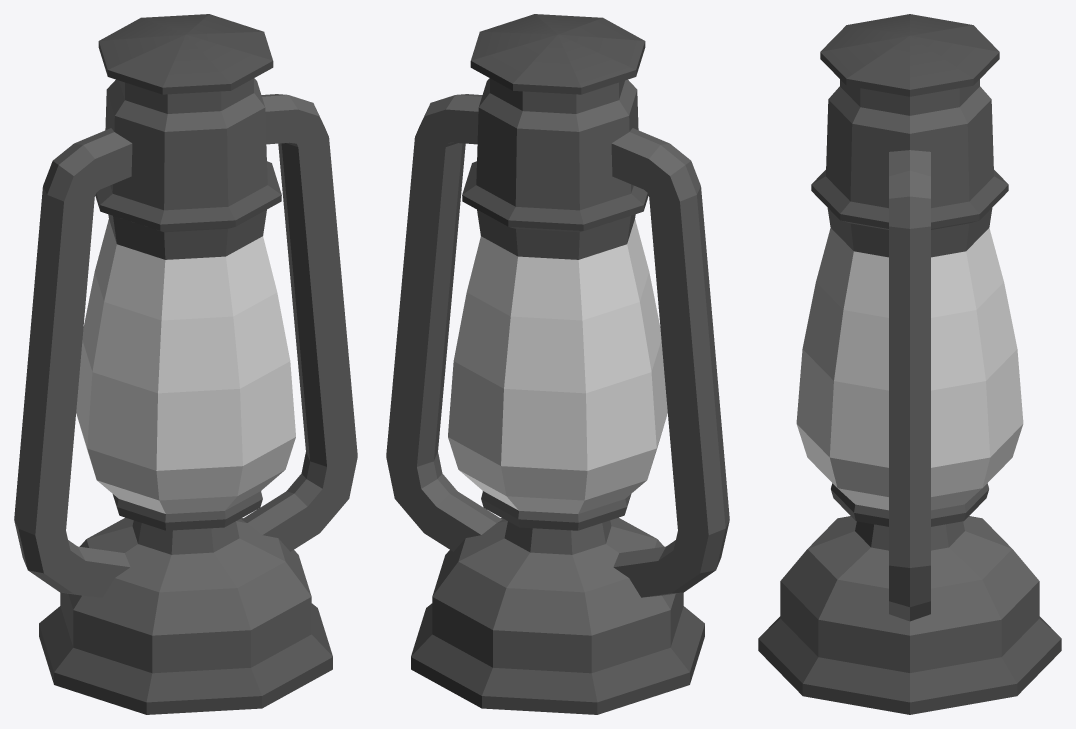
Rendered from Prop_Lantern_01.fbx.
3 views of the same model, side by side, from view 1: azimuth 30°, elevation 25°; view 2: azimuth 150°, elevation 25°; view 3: azimuth 270°, elevation 25° (orthographic).
Parts seen in each view (by area): view 1: Prop_Lantern_01_LOD0; view 2: Prop_Lantern_01_LOD0; view 3: Prop_Lantern_01_LOD0.
Boxes of the visible parts, x1=… form: Prop_Lantern_01_LOD0: x1=14, y1=14, x2=357, y2=714; Prop_Lantern_01_LOD0: x1=386, y1=14, x2=729, y2=714; Prop_Lantern_01_LOD0: x1=758, y1=14, x2=1061, y2=714.
Size of what is drawn, in the model's own units: 27.95 by 49.26 by 22.
